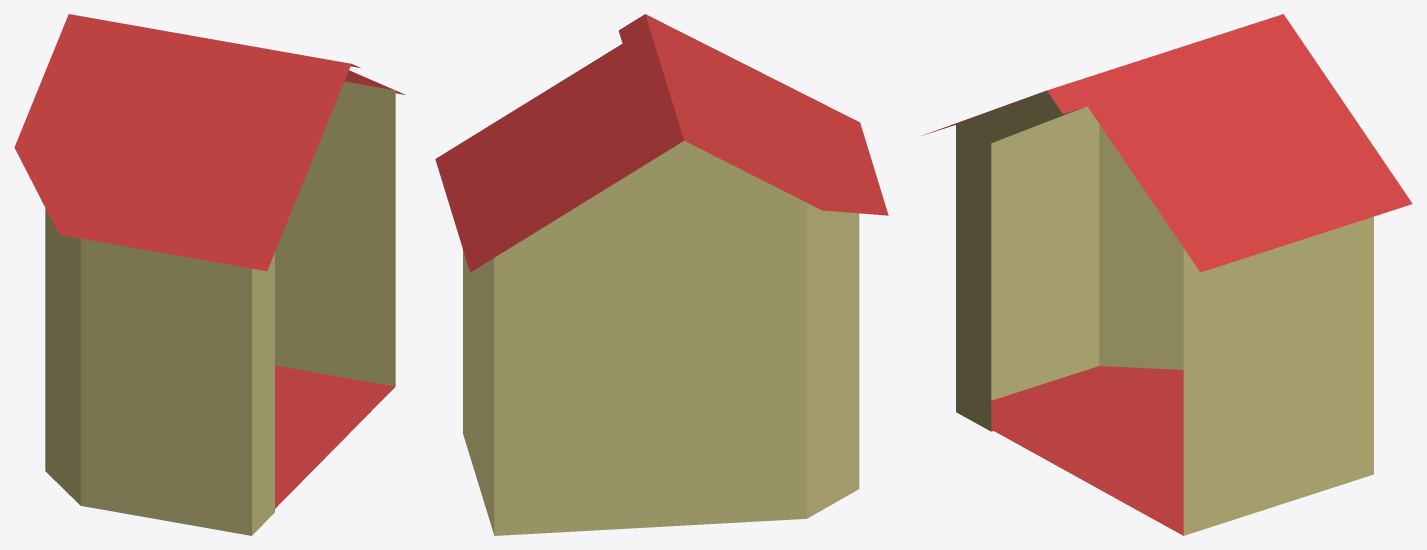
The picture shows the model from 3 angles, left to right: view 1: azimuth 30°, elevation 25°; view 2: azimuth 150°, elevation 25°; view 3: azimuth 270°, elevation 25°; orthographic projection. The views are drawn at different scales.
Size of the model in its own units: 12.26 by 13.41 by 11.68.
